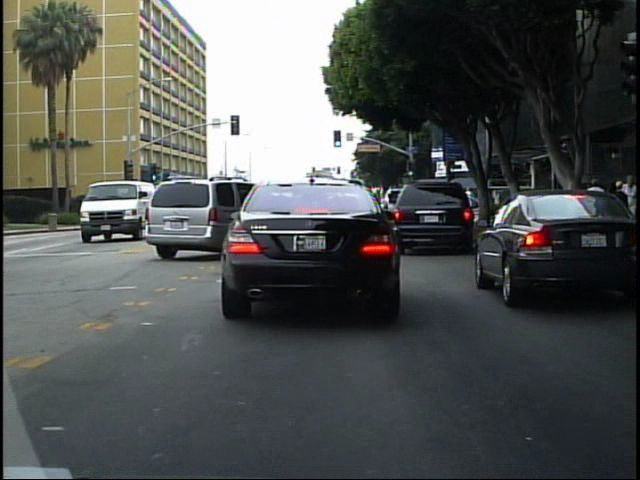person: (618, 170, 636, 245)
